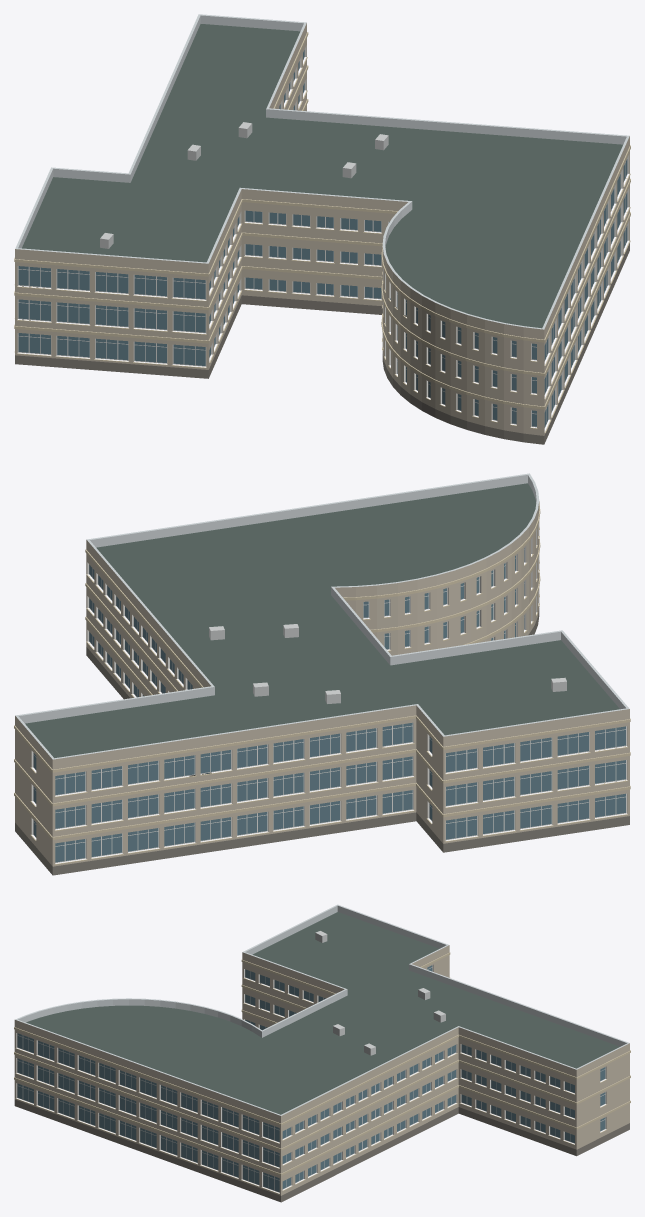
The picture shows the model from 3 angles, top to bottom: view 1: azimuth 30°, elevation 25°; view 2: azimuth 150°, elevation 25°; view 3: azimuth 270°, elevation 25°; orthographic projection. The views are drawn at different scales.
Visible parts, largest first — view 1: wing1__roof, wing1__wall-plaster, wing1__glass, wing1__trim-concrete, wing1__parapet-concrete, wing1__frame, wing1__base-stone, wing1__equipment; view 2: wing1__roof, wing1__wall-plaster, wing1__glass, wing1__trim-concrete, wing1__parapet-concrete, wing1__frame, wing1__base-stone, wing1__equipment; view 3: wing1__roof, wing1__wall-plaster, wing1__glass, wing1__trim-concrete, wing1__parapet-concrete, wing1__frame, wing1__base-stone, wing1__equipment.
Boxes of the visible parts, x1,y1,x2,y2 form: wing1__roof: [22, 24, 622, 328]; wing1__wall-plaster: [15, 23, 629, 435]; wing1__glass: [18, 50, 627, 427]; wing1__trim-concrete: [14, 32, 630, 432]; wing1__parapet-concrete: [15, 14, 629, 329]; wing1__frame: [17, 45, 629, 427]; wing1__base-stone: [15, 243, 629, 444]; wing1__equipment: [100, 122, 388, 248]; wing1__roof: [25, 483, 619, 758]; wing1__wall-plaster: [15, 501, 629, 866]; wing1__glass: [33, 548, 625, 862]; wing1__trim-concrete: [14, 502, 630, 865]; wing1__parapet-concrete: [15, 473, 629, 759]; wing1__frame: [31, 523, 627, 862]; wing1__base-stone: [15, 608, 629, 875]; wing1__equipment: [209, 624, 566, 703]; wing1__roof: [26, 912, 619, 1114]; wing1__wall-plaster: [14, 945, 629, 1195]; wing1__glass: [17, 965, 605, 1192]; wing1__trim-concrete: [14, 952, 630, 1194]; wing1__parapet-concrete: [15, 904, 629, 1115]; wing1__frame: [16, 964, 606, 1192]; wing1__base-stone: [14, 1099, 629, 1202]; wing1__equipment: [315, 931, 445, 1055].
Size of the model in its own units: 65.27 by 12.5 by 80.17.
